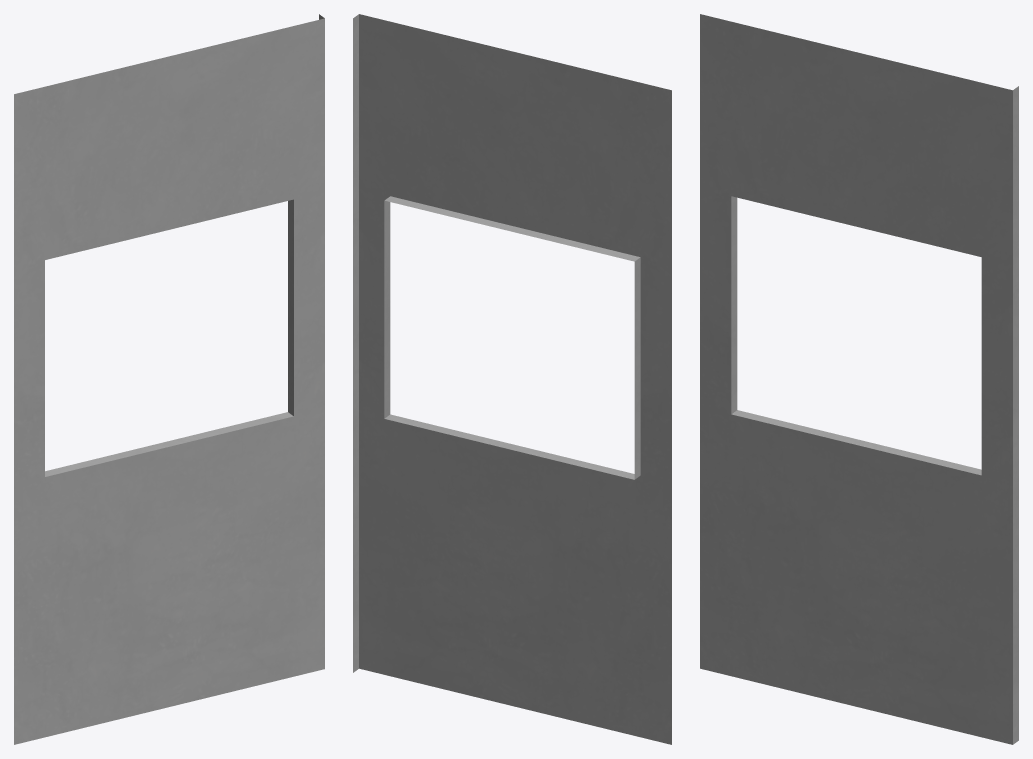
File: Wall_150_Window_Small.FBX
3 renders of one model, left to right at view 1: azimuth 30°, elevation 25°; view 2: azimuth 150°, elevation 25°; view 3: azimuth 330°, elevation 25°, orthographic.
Parts seen in each view (by area): view 1: Wall_150_Window_Small; view 2: Wall_150_Window_Small; view 3: Wall_150_Window_Small.
Part boxes in pixels (x1=…): Wall_150_Window_Small: x1=14, y1=14, x2=324, y2=744; Wall_150_Window_Small: x1=353, y1=14, x2=671, y2=744; Wall_150_Window_Small: x1=700, y1=14, x2=1018, y2=744.
Size of the model in its own units: 150 by 300 by 5.
